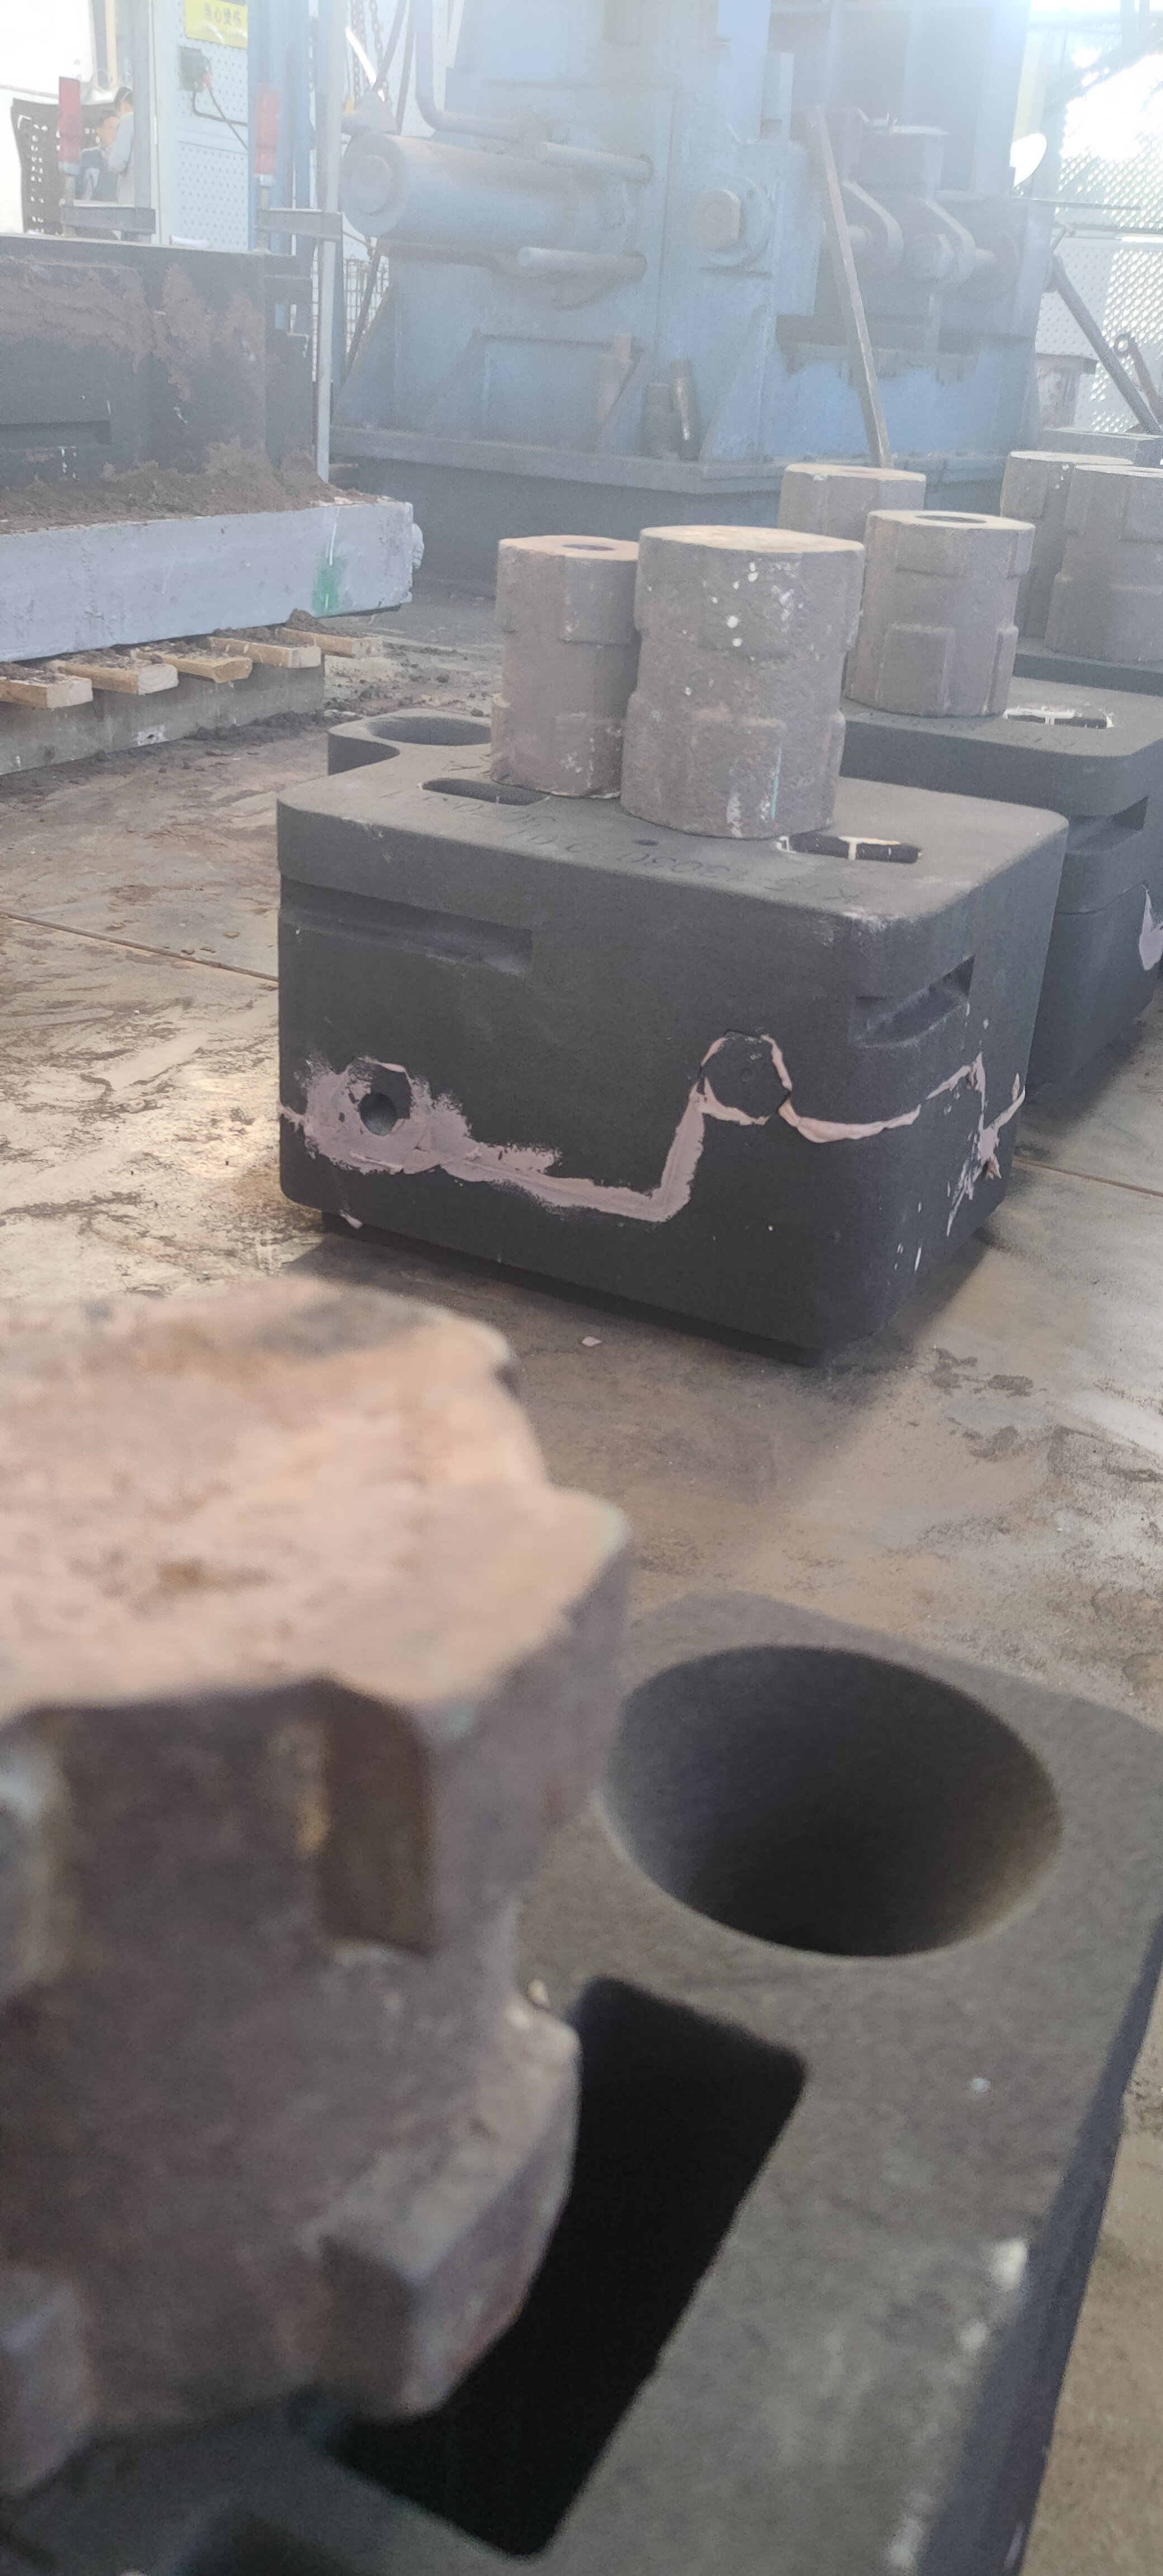pouring hole: (591, 1640, 1069, 1957), (360, 713, 499, 752)
